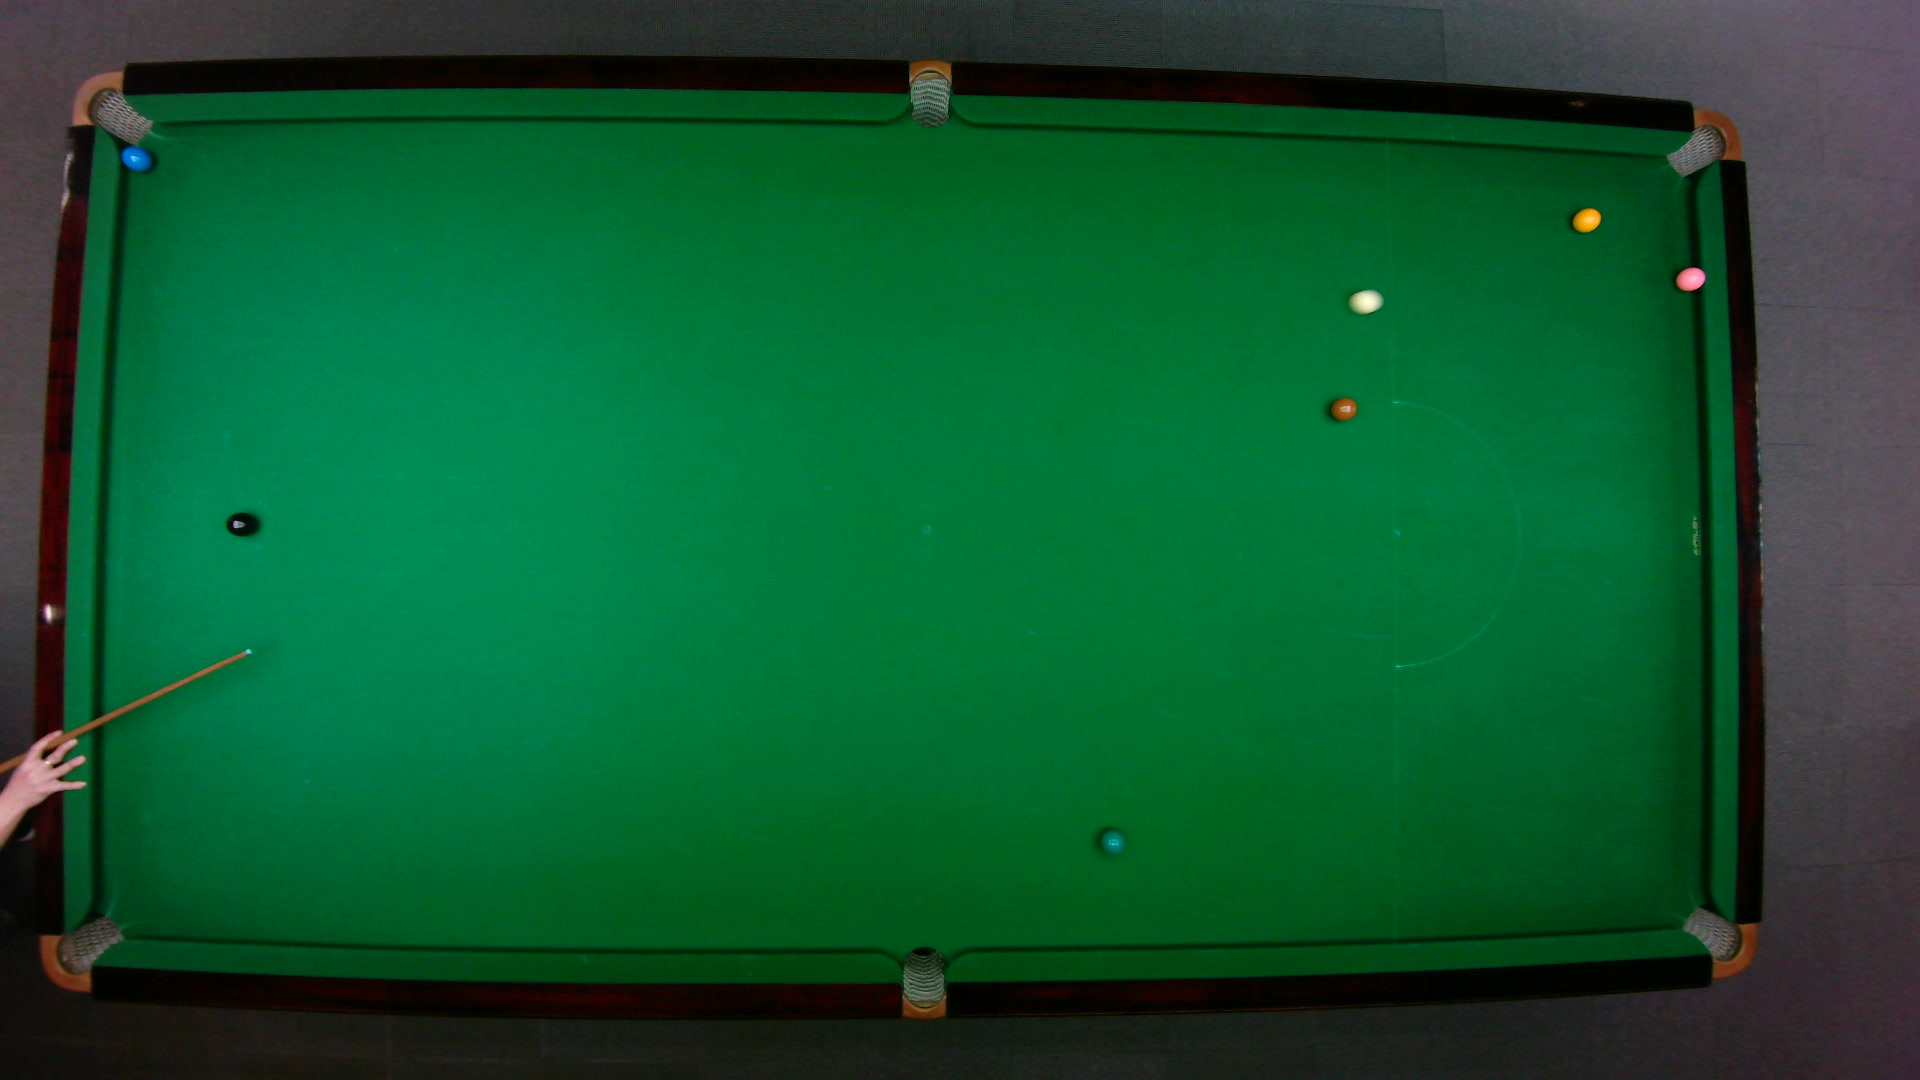bag: (38, 913, 127, 992), (69, 69, 153, 145), (1679, 905, 1756, 978), (1663, 107, 1741, 177), (901, 944, 944, 1021), (909, 57, 949, 128)
black: (223, 510, 256, 537)
blue: (117, 144, 152, 171)
brown: (1328, 396, 1358, 421)
cue: (0, 647, 258, 775)
green: (1098, 827, 1126, 855)
pink: (1673, 264, 1706, 291)
white: (1346, 286, 1385, 314)
yellow: (1571, 204, 1602, 233)
zone: (1390, 398, 1520, 669)
